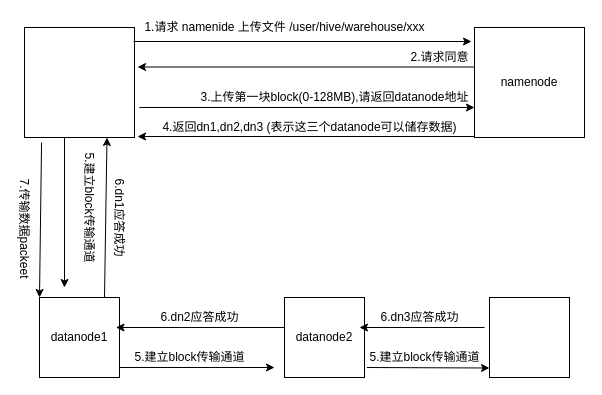
Image size: 602x395. Some labels were removed from this diagram. The centre of each missing label's shape, as x and y in pixels:
"client" belongs at point 79,82.
"datanode3" belongs at point 529,337.
